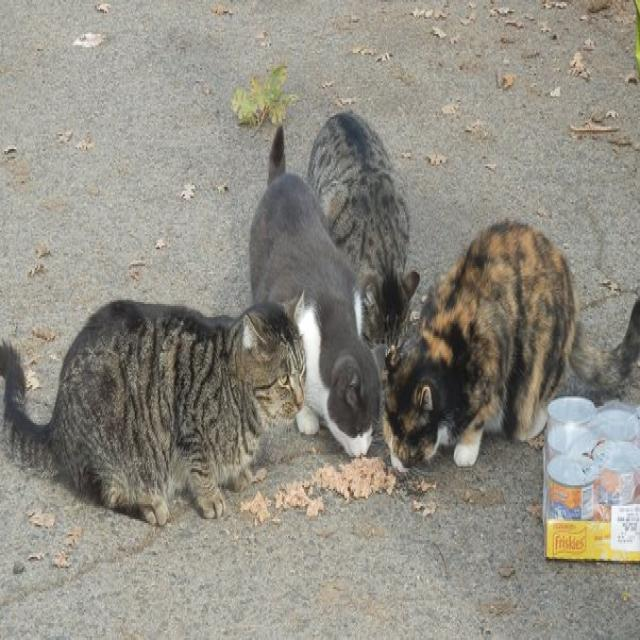cat: (0, 300, 305, 525), (384, 220, 640, 469), (250, 127, 379, 456), (308, 113, 419, 346)
